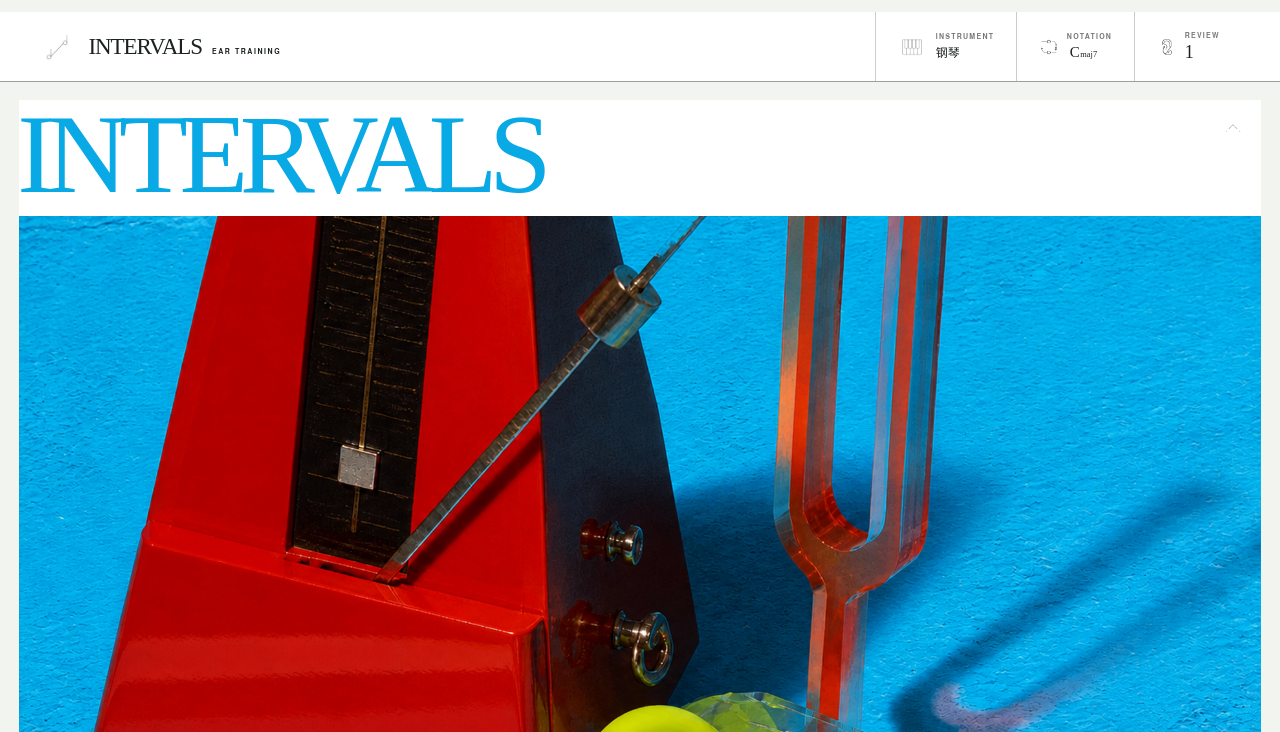
Test: App quiz navigation and triad playback › returns an ended review quiz to the wrong-answer page
Step 1. Click the button with aria-label "错题 1" → (1188, 46), box [1134,12,1242,81]
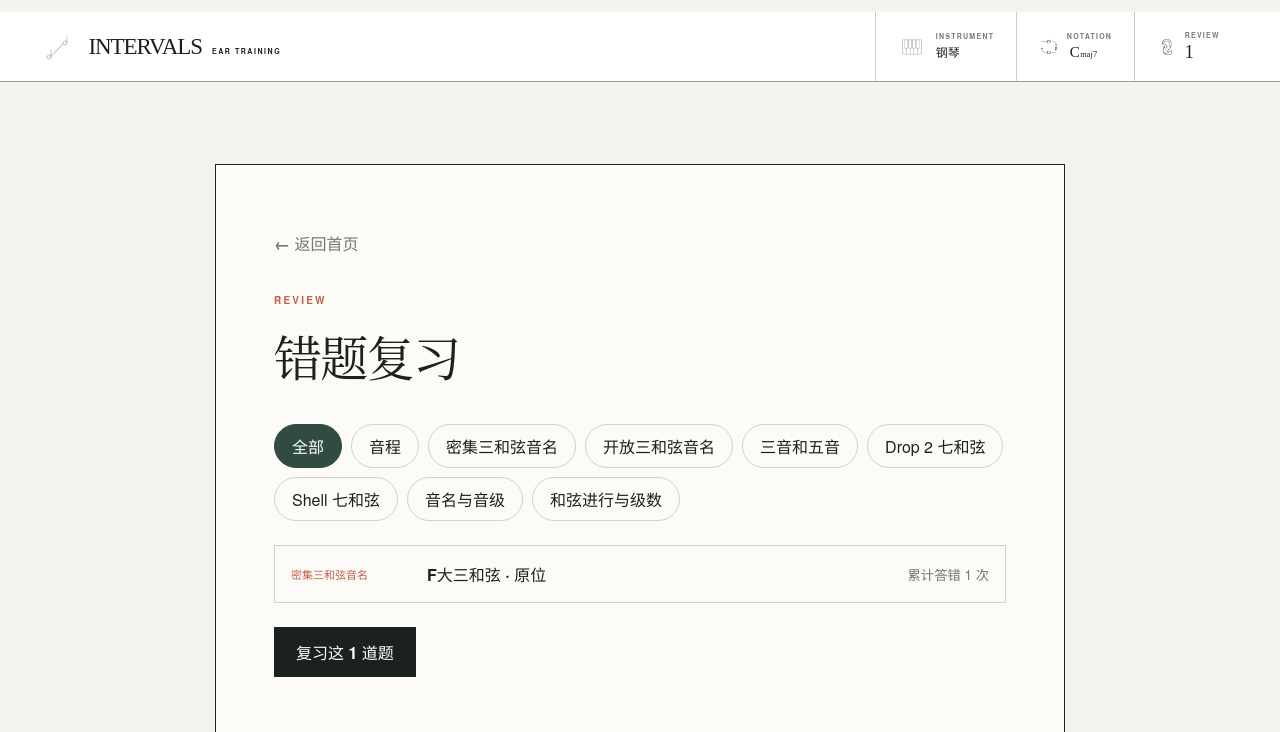
Step 2. Click the button "复习这 1 道题" → (345, 652), box [274,627,416,677]
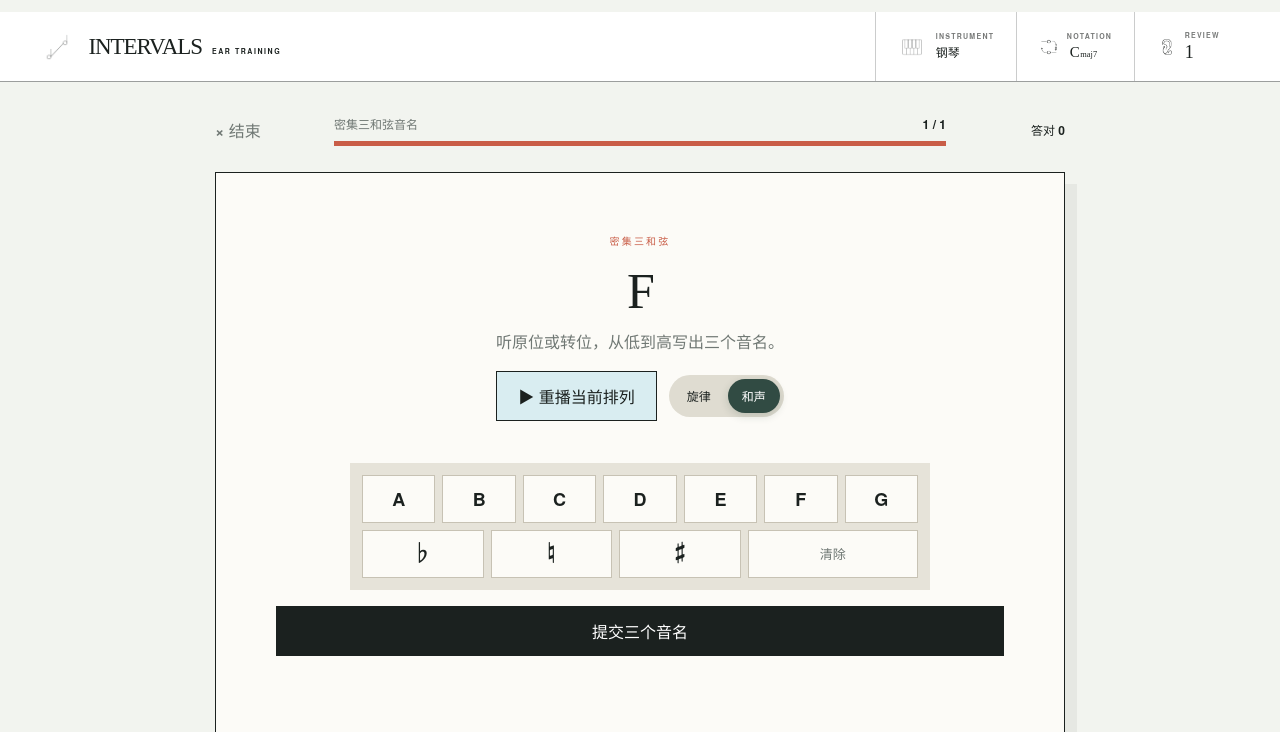
Expected: the button "× 结束" is shown
Step 3. Click the button "× 结束" → (262, 130), box [215,110,310,150]
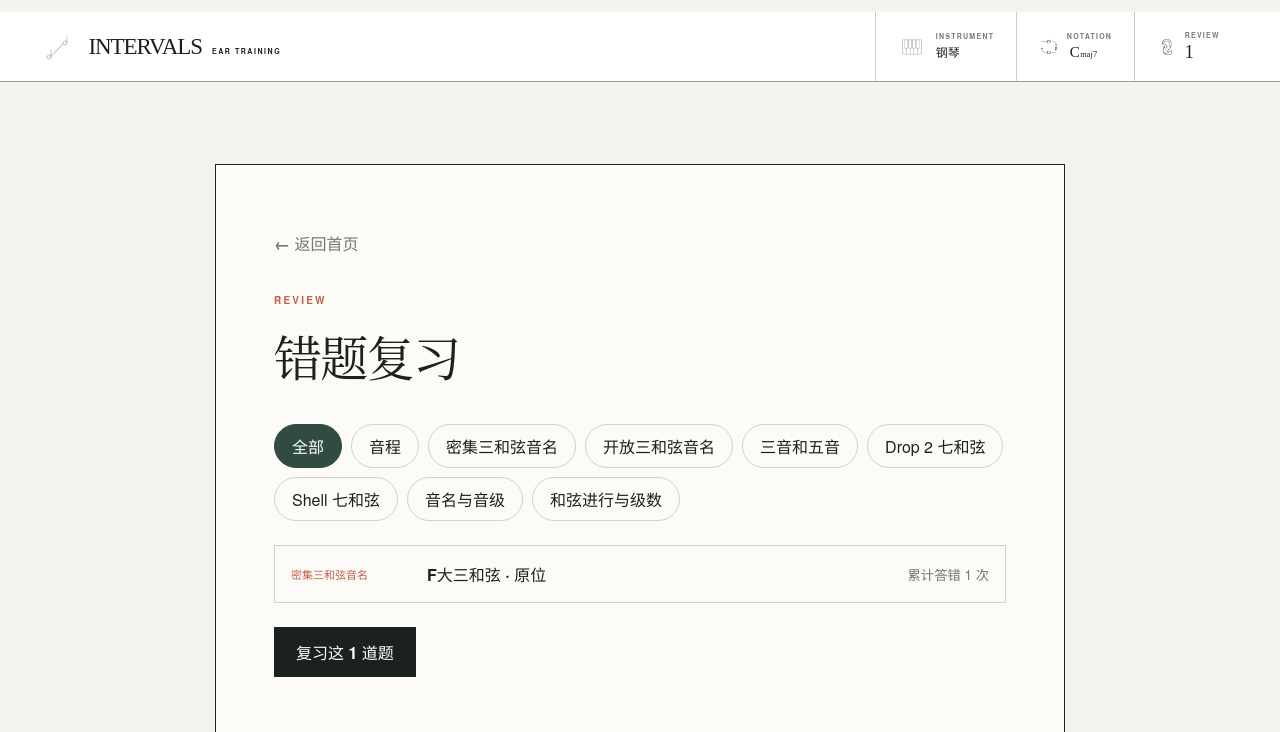
Expected: the heading "错题复习" is shown, [274,333,459,386]
